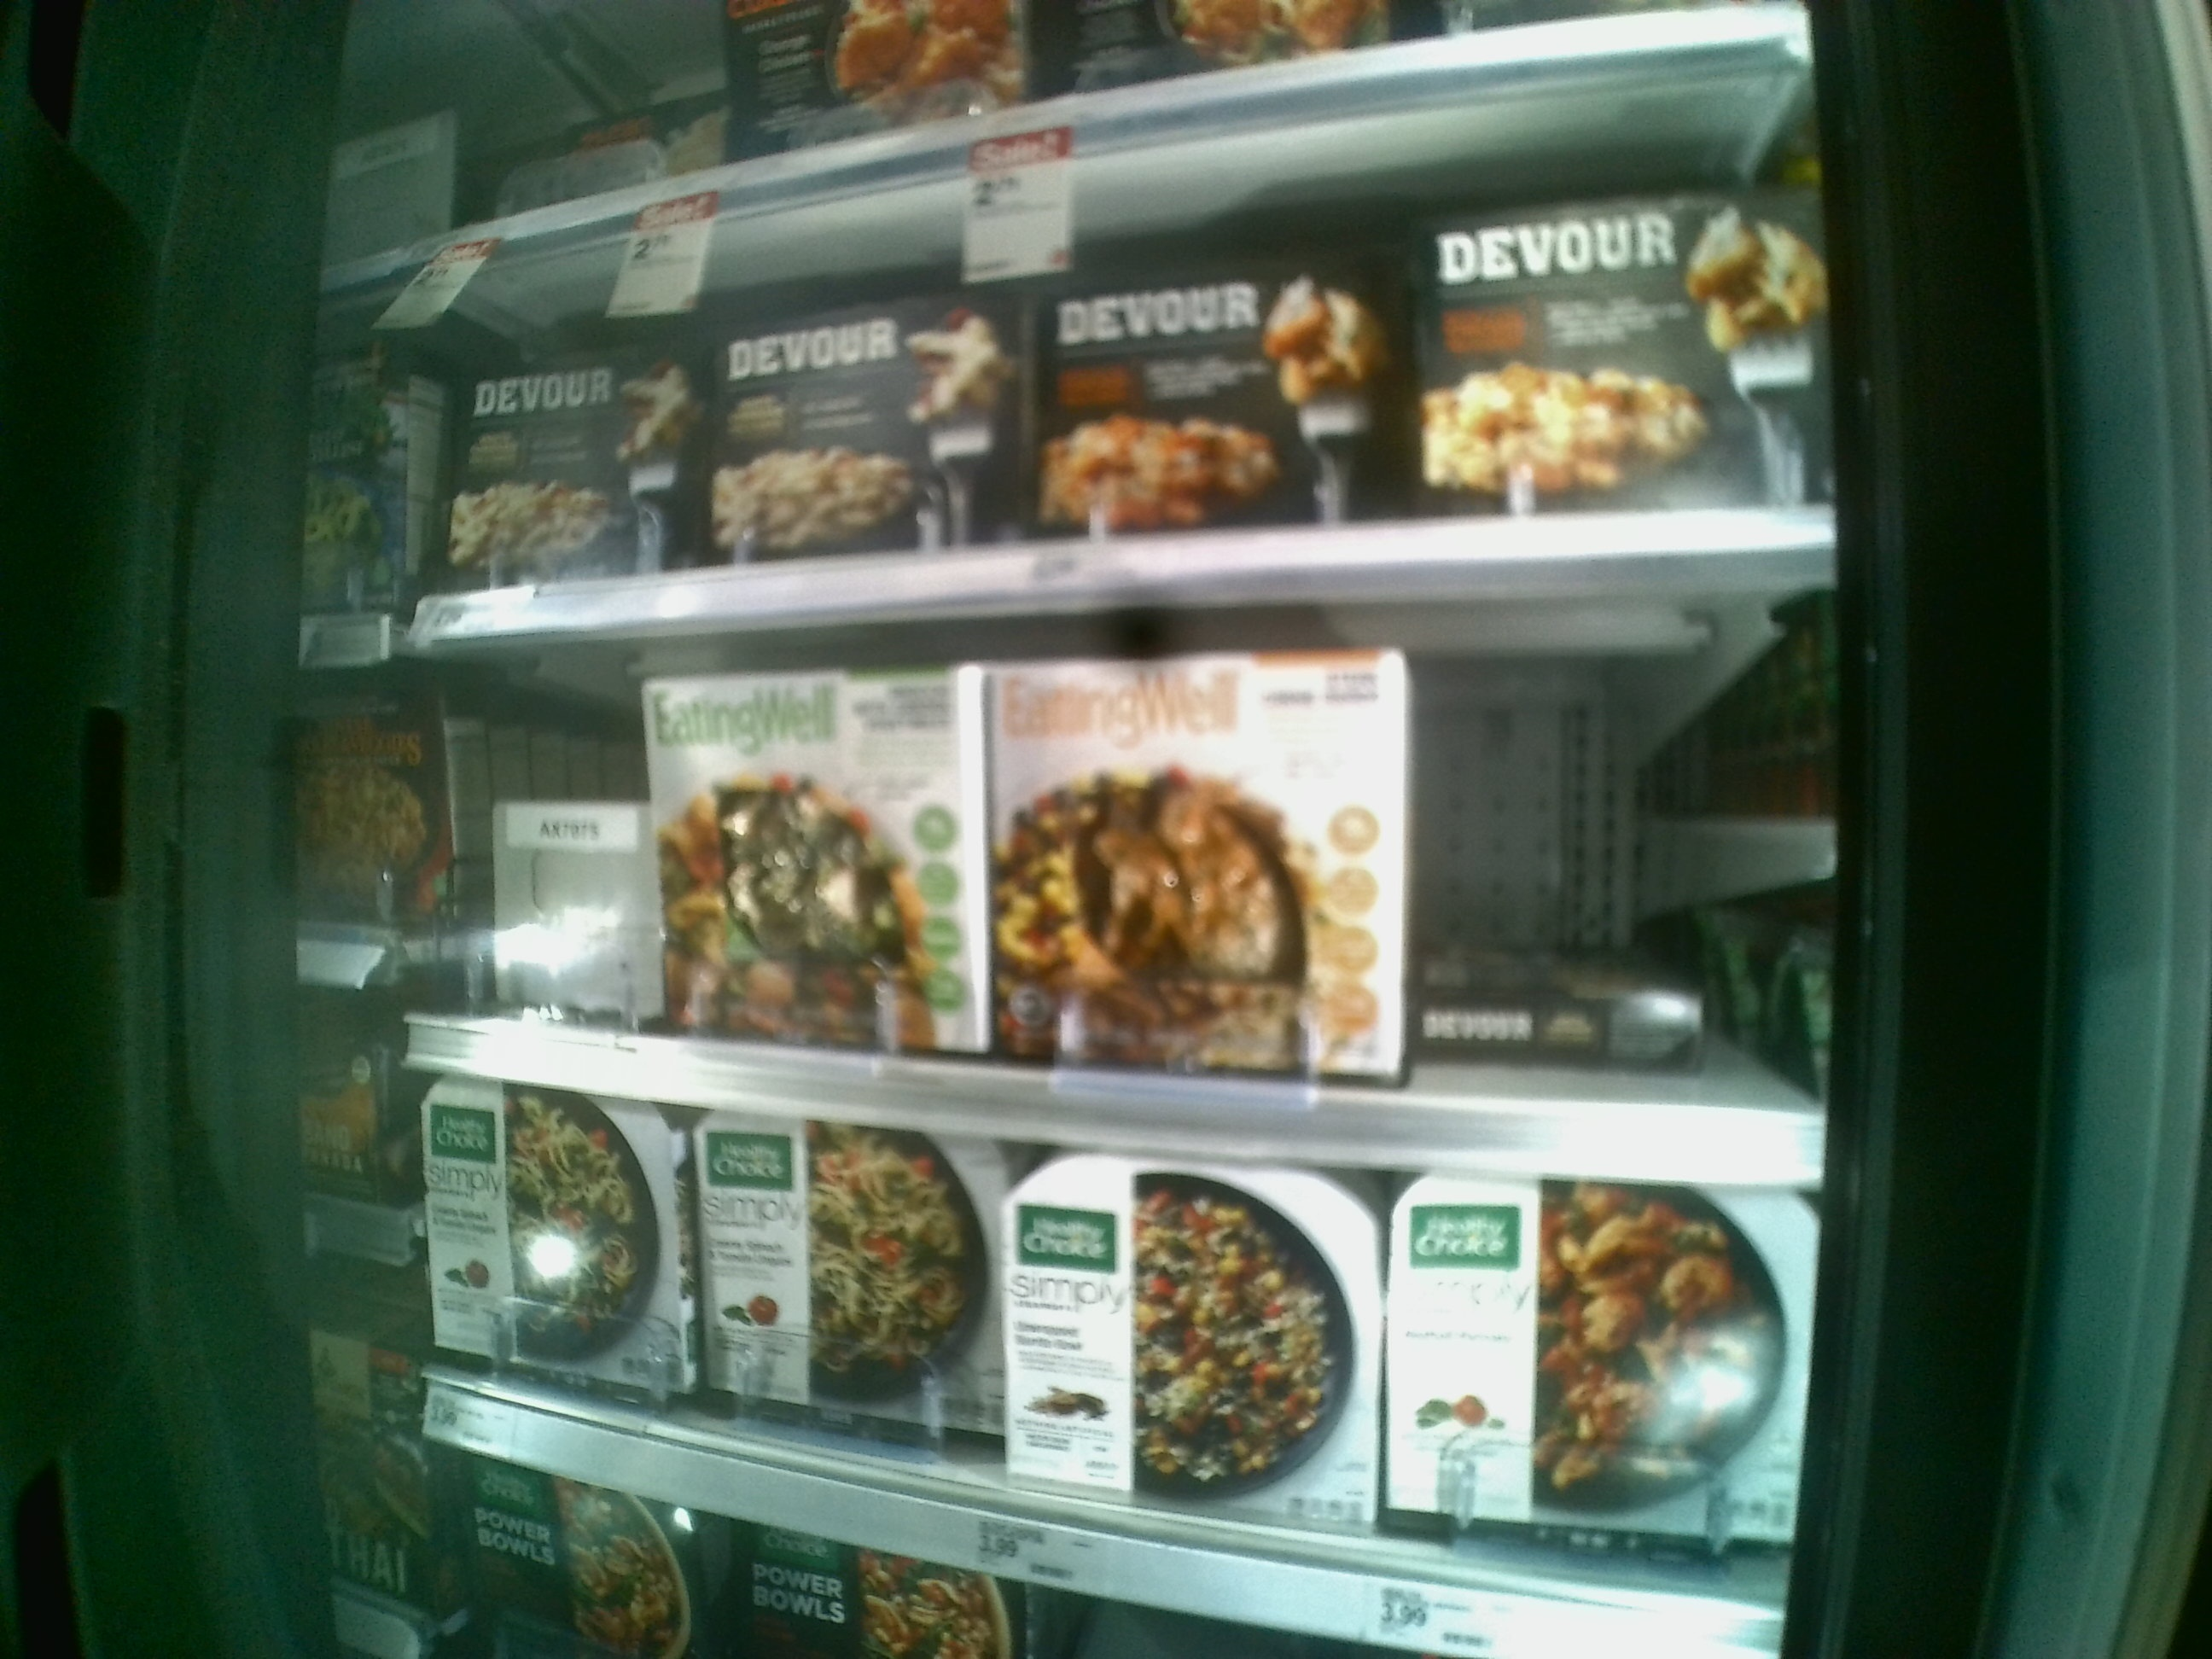shelf: (404, 551, 1832, 1185)
